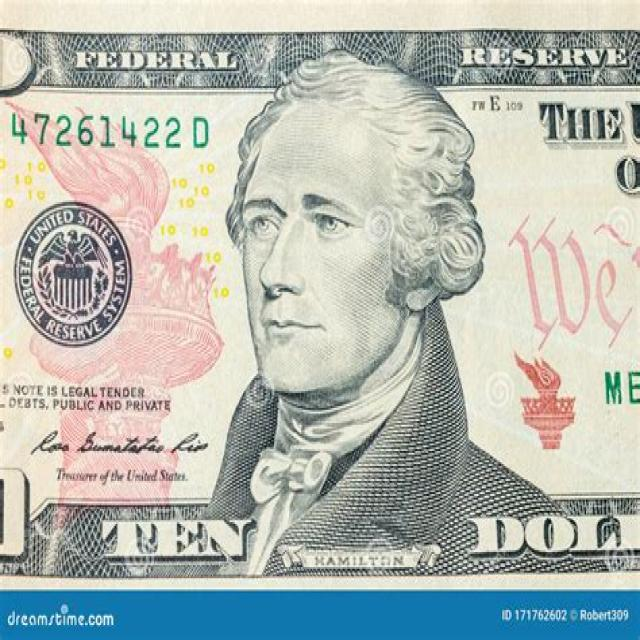Ten: (0, 0, 640, 588)
